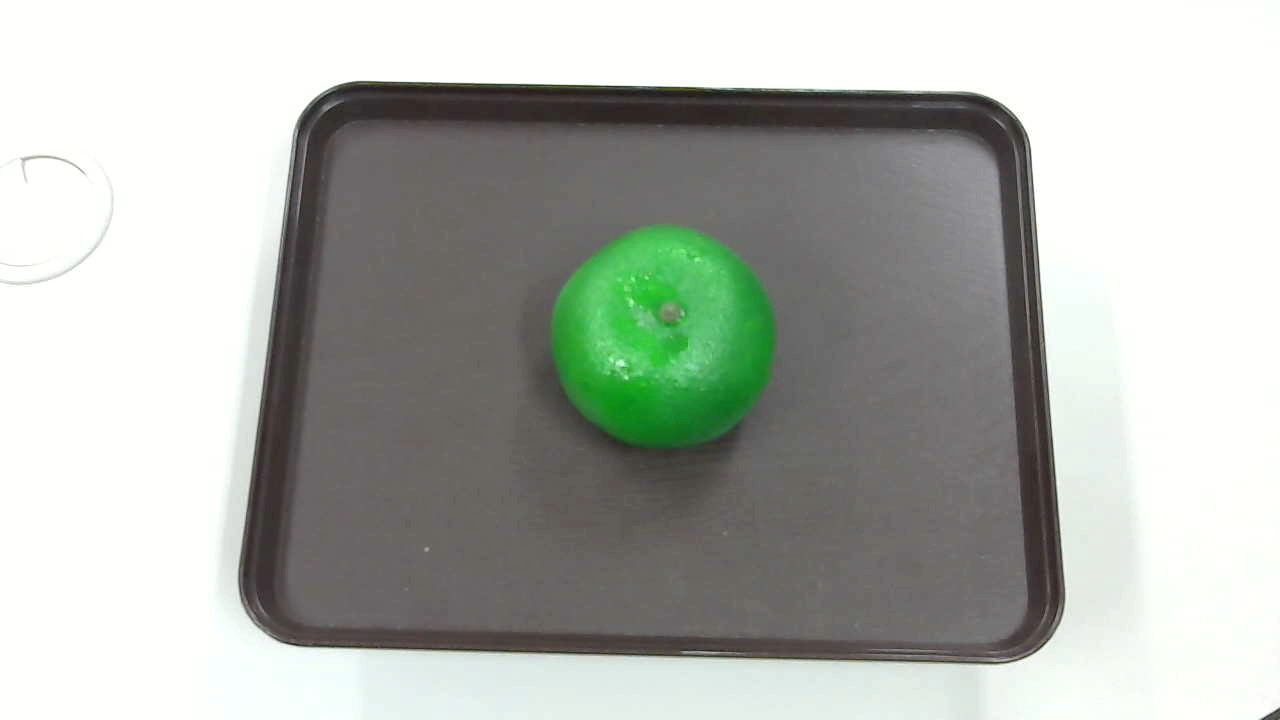green orange: (547, 225, 785, 456)
